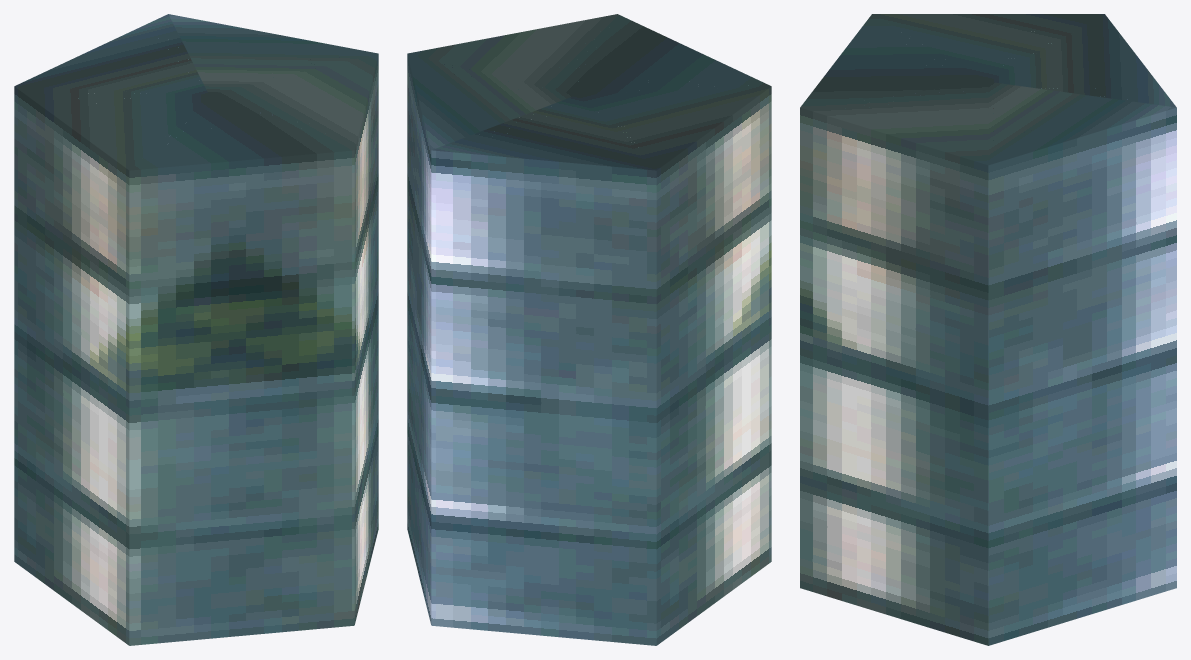
File: barrel04.glb
3 renders of one model, left to right at view 1: azimuth 30°, elevation 25°; view 2: azimuth 150°, elevation 25°; view 3: azimuth 270°, elevation 25°, orthographic.
Visible parts, largest first — view 1: barrel04; view 2: barrel04; view 3: barrel04.
Part boxes in pixels (x1,y1,x2,y2): barrel04: (14,14,378,645); barrel04: (407,14,771,645); barrel04: (800,14,1176,645).
Size of the model in its own units: 173 by 256 by 182.
1 material, 1 textured.
